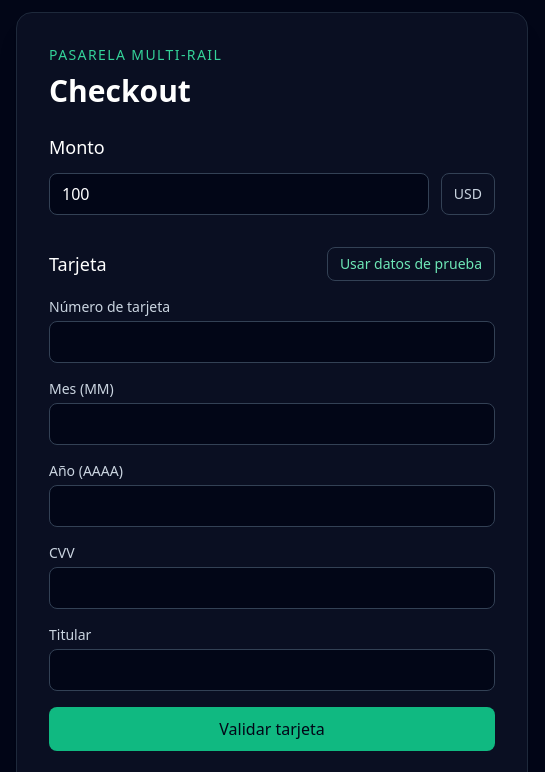
it: CheckoutPage — interacción › muestra errores de campo al validar tarjeta vacía
Click the button "Validar tarjeta". click: click(272, 729)
box: [49, 707, 495, 751]
(page scrolled)
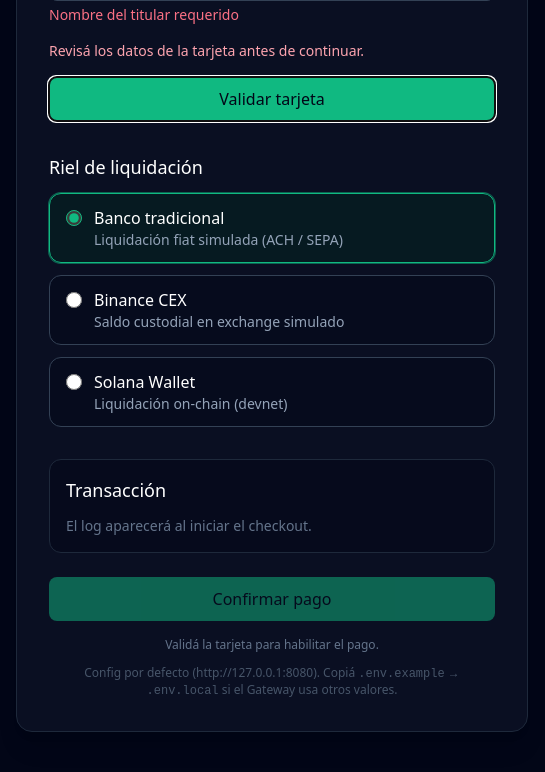
Expected: the button "Confirmar pago" is disabled, [49, 577, 495, 621]
Expected: the text "Revisá los datos de la tarjeta antes de continuar." is shown, [49, 41, 364, 60]
